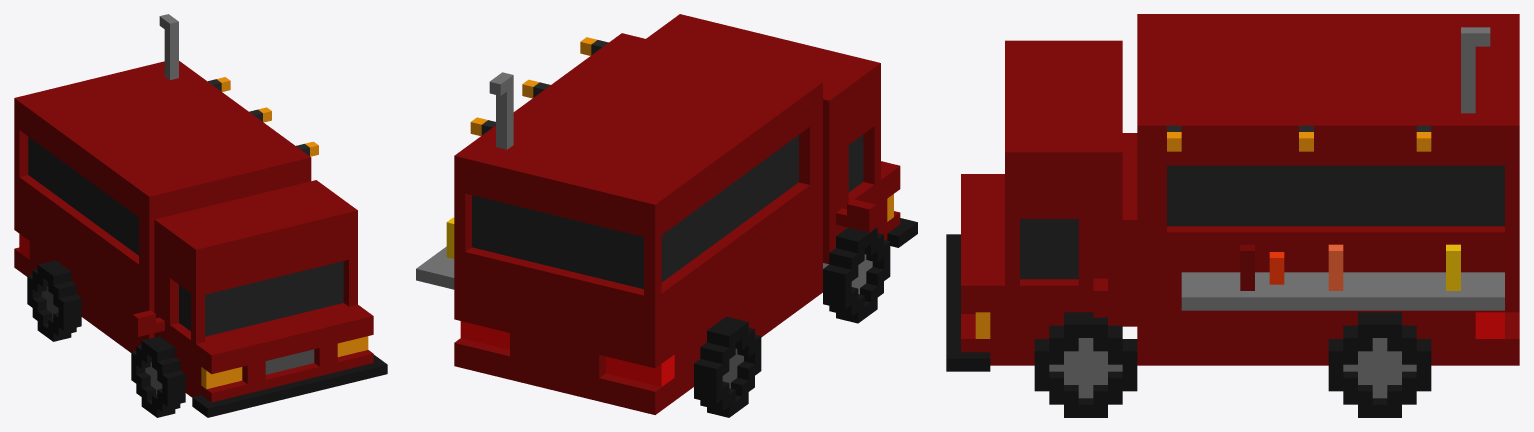
Rendered from redtruckassets.vox.obj.
3 renders of one model, left to right at view 1: azimuth 30°, elevation 25°; view 2: azimuth 150°, elevation 25°; view 3: azimuth 270°, elevation 25°, orthographic. The views are drawn at different scales.
Size of the model in its own units: 2.5 by 2.7 by 3.9.
Materials: 1 (1 with a texture image).
